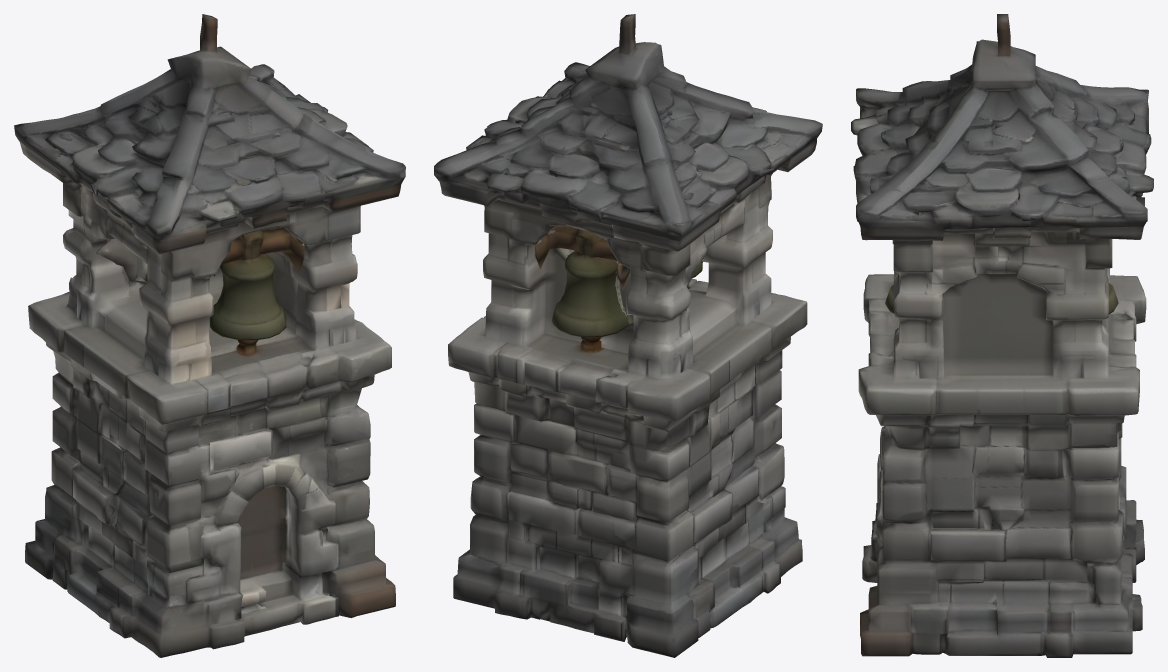
File: bell-tower.glb
3 renders of one model, left to right at view 1: azimuth 30°, elevation 25°; view 2: azimuth 150°, elevation 25°; view 3: azimuth 270°, elevation 25°, orthographic. The views are drawn at different scales.
Parts seen in each view (by area): view 1: tripo_node_0fef5e84-9067-426b-88ff-b657811266d2; view 2: tripo_node_0fef5e84-9067-426b-88ff-b657811266d2; view 3: tripo_node_0fef5e84-9067-426b-88ff-b657811266d2.
Boxes of the visible parts, left/top/right/bottom form: tripo_node_0fef5e84-9067-426b-88ff-b657811266d2: left=14, top=14, right=405, bottom=657; tripo_node_0fef5e84-9067-426b-88ff-b657811266d2: left=434, top=14, right=822, bottom=657; tripo_node_0fef5e84-9067-426b-88ff-b657811266d2: left=851, top=14, right=1153, bottom=657.
Bounding box in the file's own units: 0.465 × 0.9778 × 0.4612.
Materials: 1 (1 with a texture image).
